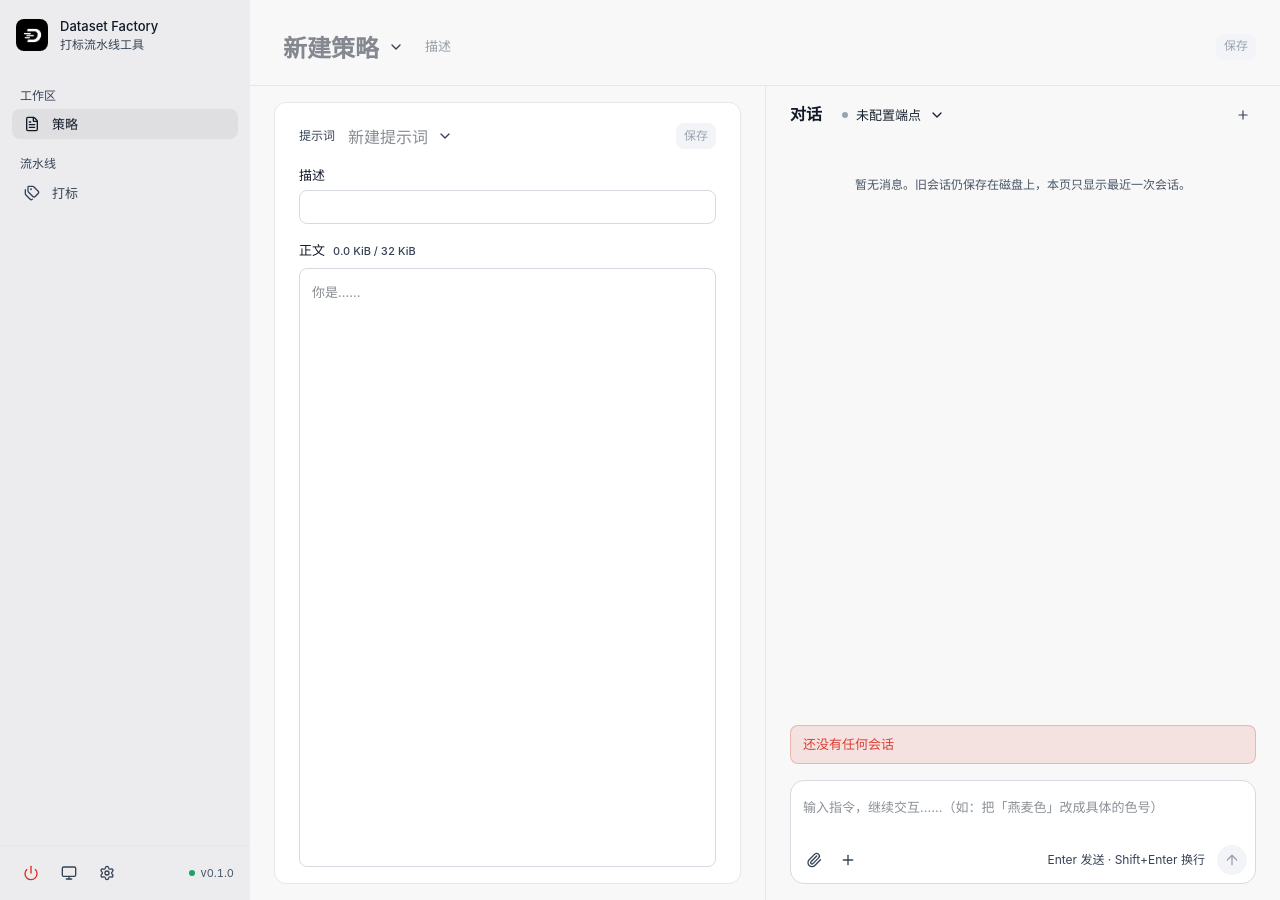
Test: App 外壳 › 侧栏可折叠：收起后品牌文字隐藏、宽度收窄
Step 1. Click the button named "收起侧栏" → x=32, y=35, box [16,19,48,51]
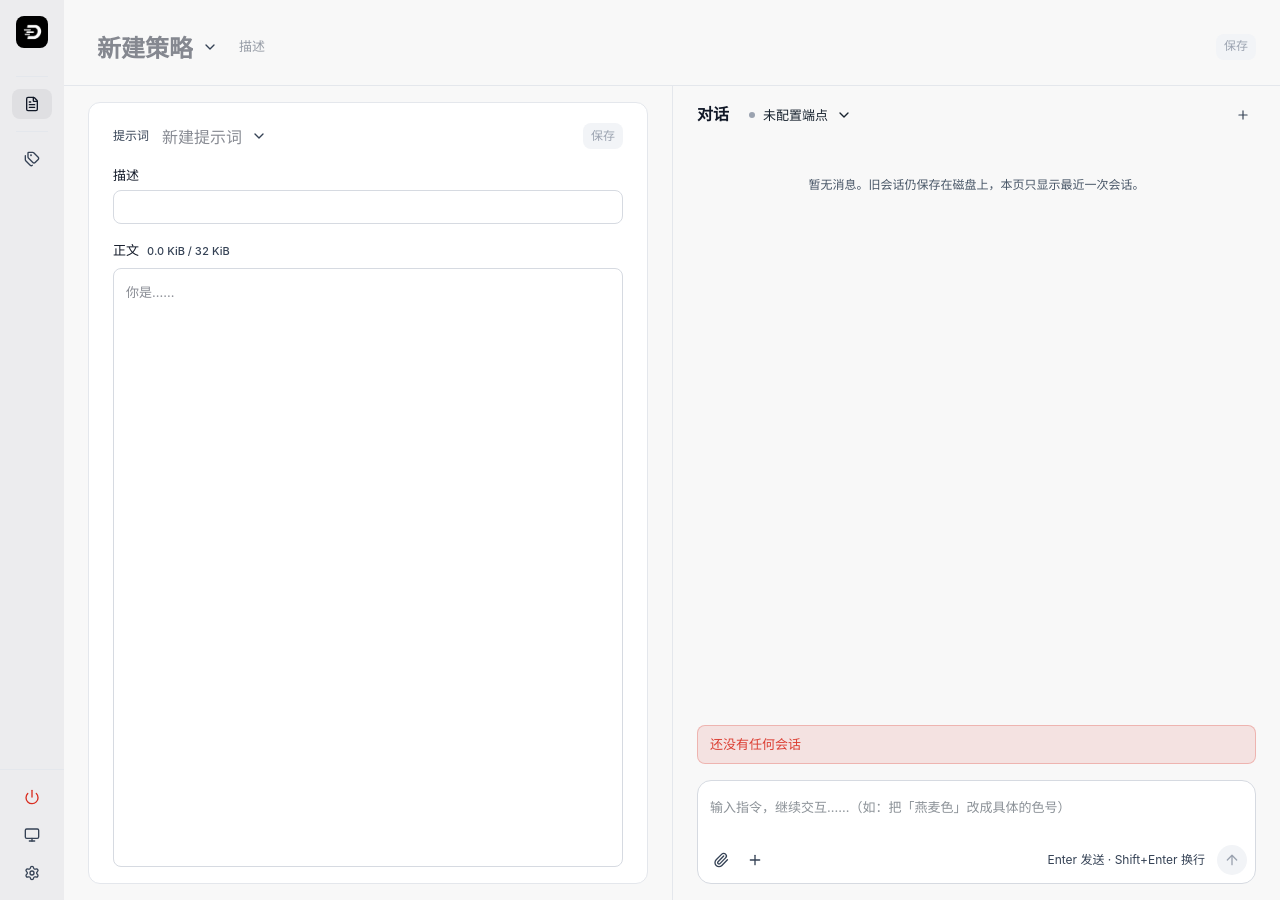
Expected: the text "Dataset Factory" is gone
Step 2. Click the button named "展开侧栏" → x=32, y=32, box [16,16,48,48]
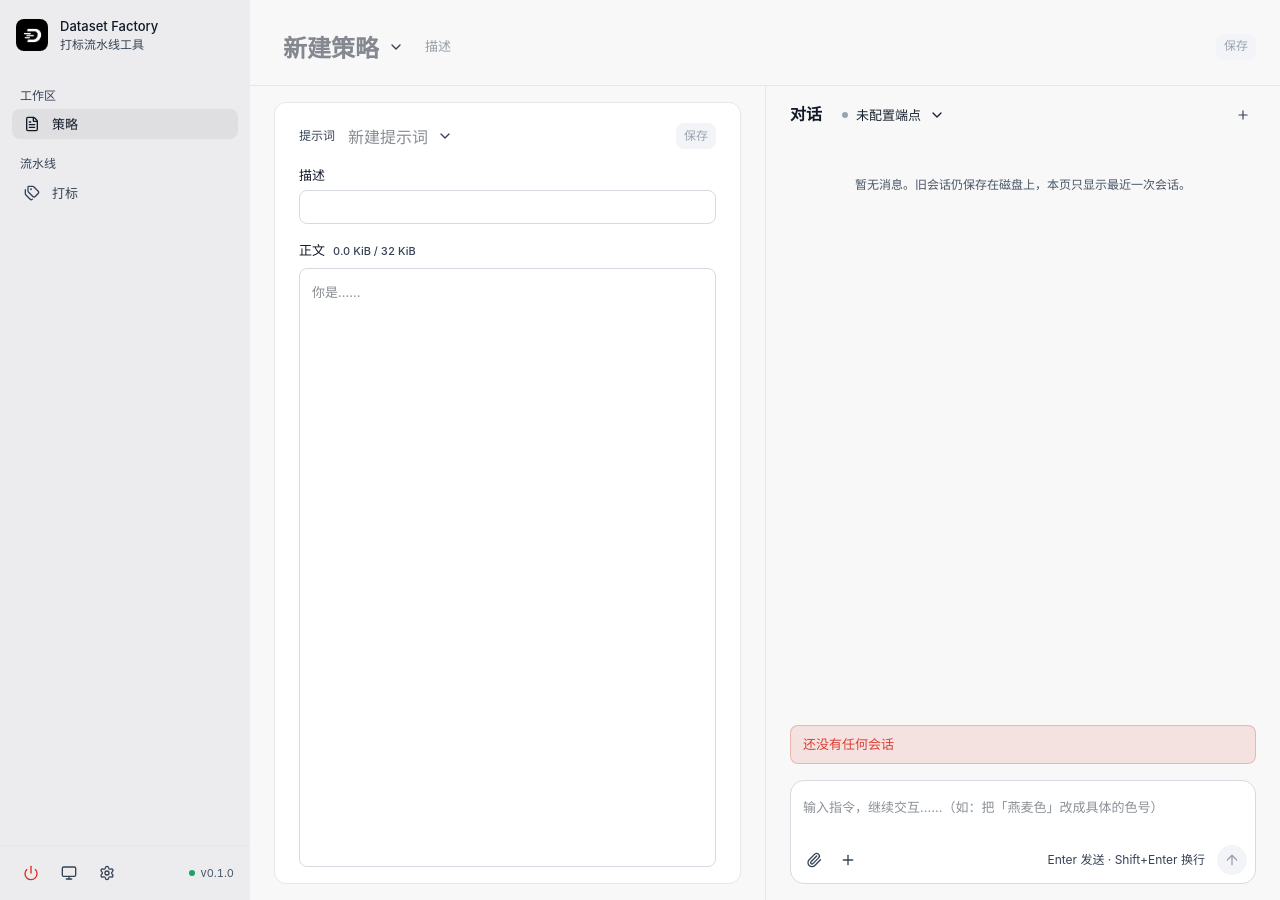
Expected: the text "Dataset Factory" is shown, [60,16,158,36]
